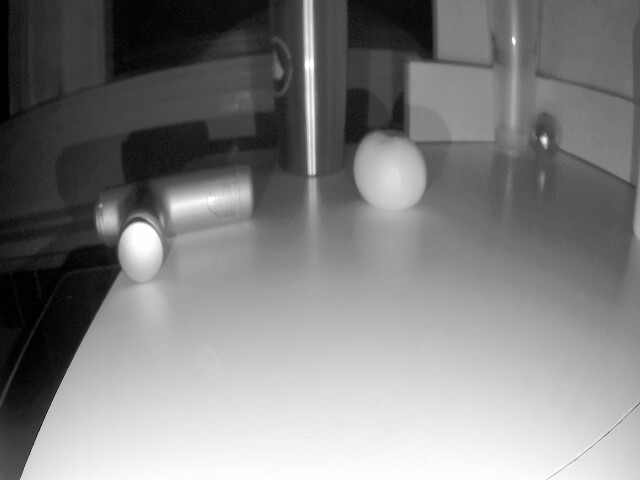black: (533, 104, 560, 157)
